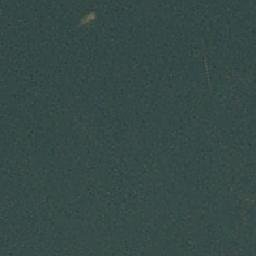debris: (81, 10, 94, 28)
